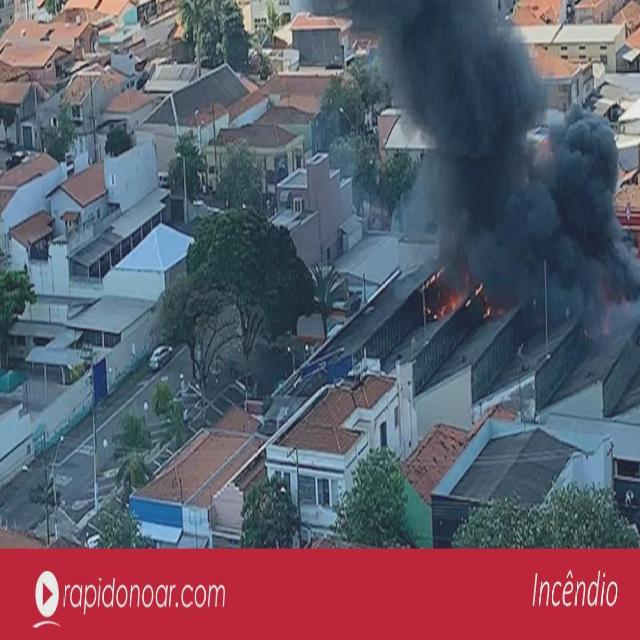Fire: (445, 290, 459, 310)
